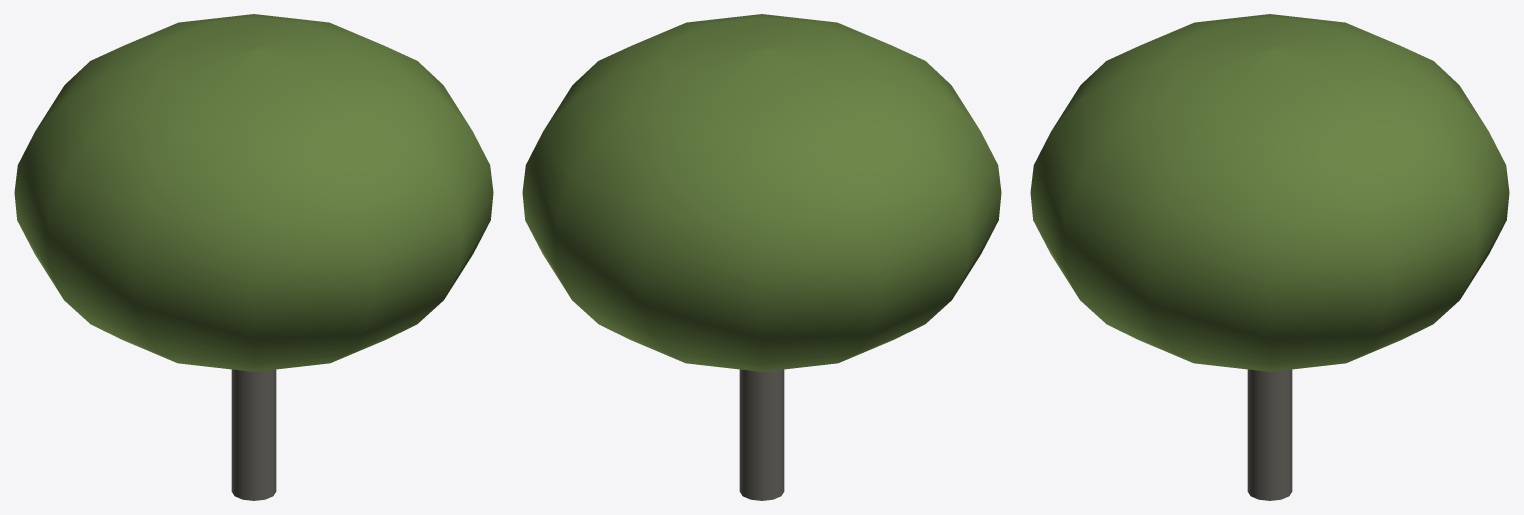
Rendered from Western_Juniper_Analytical_0.obj.
3 views of the same model, side by side, from view 1: azimuth 30°, elevation 25°; view 2: azimuth 150°, elevation 25°; view 3: azimuth 270°, elevation 25° (orthographic).
Parts seen in each view (by area): view 1: AnalyticalCrown, AnalyticalTrunk; view 2: AnalyticalCrown, AnalyticalTrunk; view 3: AnalyticalCrown, AnalyticalTrunk.
Part boxes in pixels (x1,y1,x2,y2): AnalyticalCrown: [14, 14, 493, 371]; AnalyticalTrunk: [231, 369, 276, 500]; AnalyticalCrown: [522, 14, 1001, 371]; AnalyticalTrunk: [739, 369, 784, 500]; AnalyticalCrown: [1030, 14, 1509, 371]; AnalyticalTrunk: [1247, 369, 1292, 500].
Bounding box in the file's own units: 22.06 × 22.5 × 22.06.
